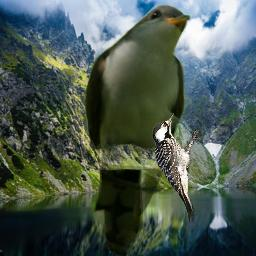Cuckoo: (83, 4, 192, 256)
Woodpecker: (152, 113, 203, 224)
